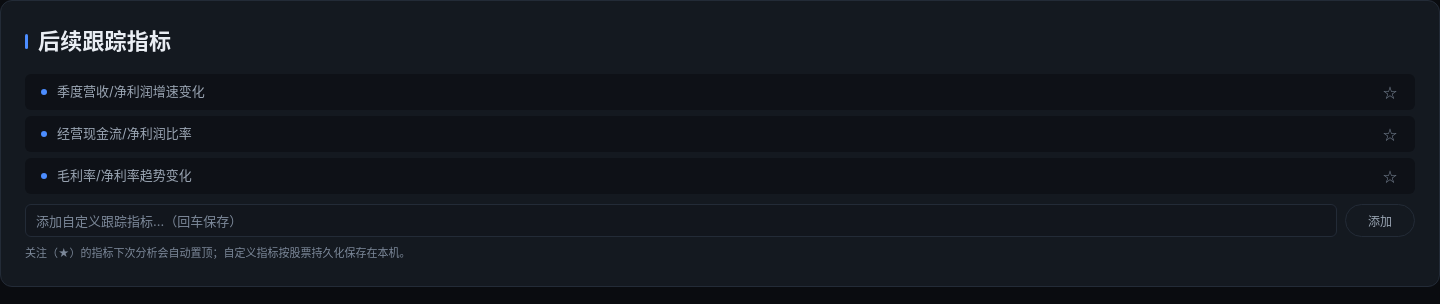
FollowUpSection 后续跟踪指标 › 不同股票代码的跟踪状态互相隔离
The width and height of the screenshot is (1440, 304).
Step 1. Click the button named "关注" → (1390, 92), box [1381, 82, 1399, 102]
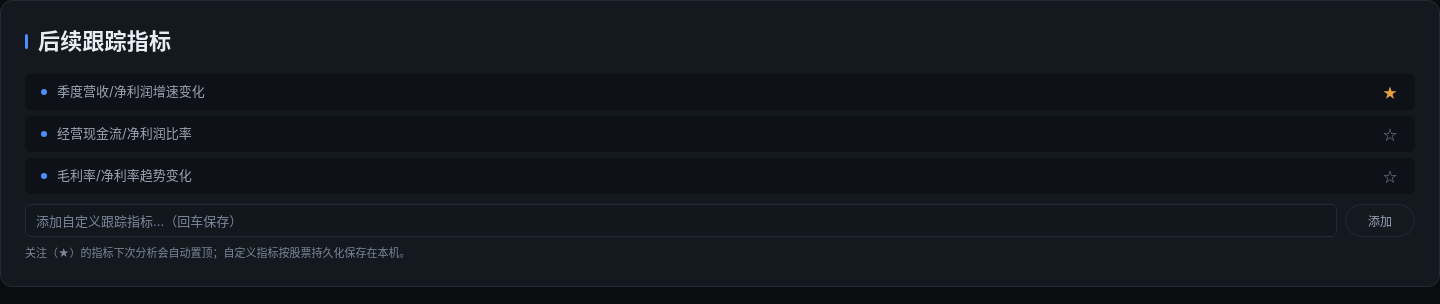
Result: the button named "取消关注" is shown at [1381, 82, 1399, 102]
